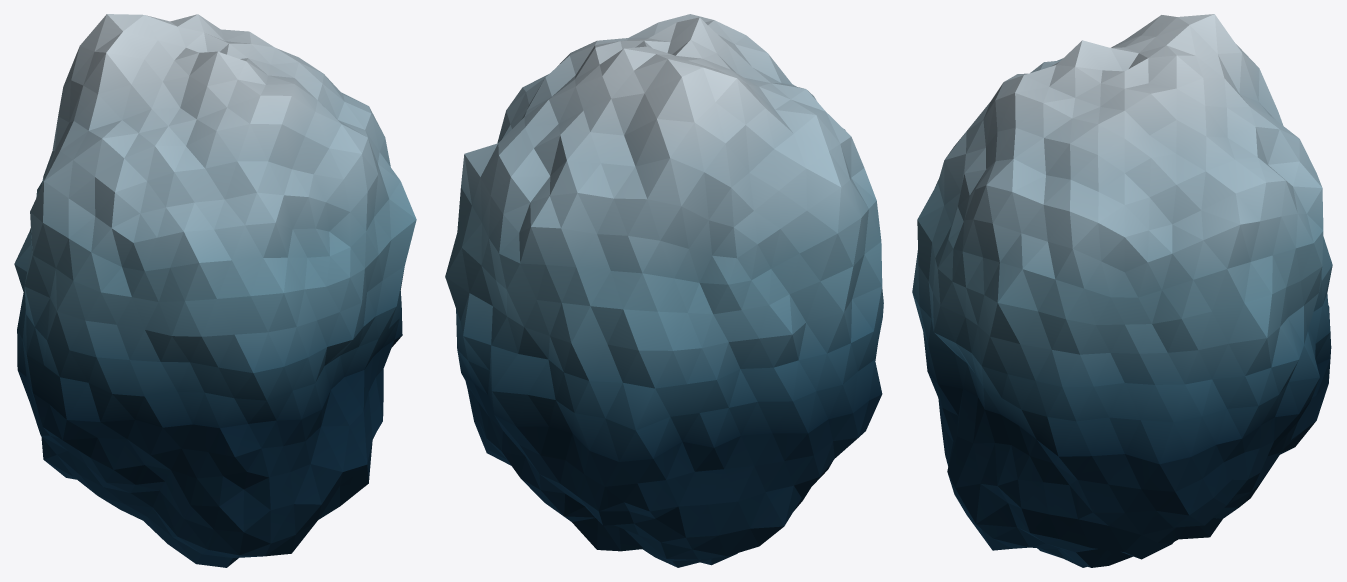
Rendered from iceberg_small.glb.
3 views of the same model, side by side, from view 1: azimuth 30°, elevation 25°; view 2: azimuth 150°, elevation 25°; view 3: azimuth 270°, elevation 25° (orthographic). The views are drawn at different scales.
Visible parts, largest first — view 1: iceberg_small; view 2: iceberg_small; view 3: iceberg_small.
Part boxes in pixels (<box>): iceberg_small: <box>14,14,416,567</box>; iceberg_small: <box>445,14,883,567</box>; iceberg_small: <box>912,14,1332,567</box>.
Bounding box in the file's own units: 14.23 × 19.85 × 14.36.
